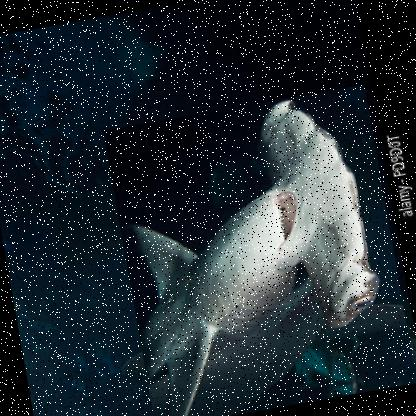hammerhead_Shark: (102, 81, 415, 415)
